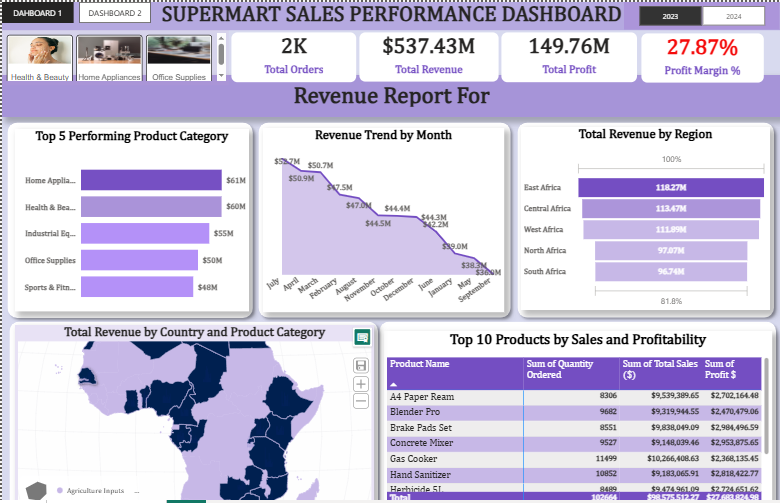

The dashboard page shown, as its layout file describes it:
{"tool":"powerbi","page":{"name":"DAHBOARD 1","canvas":[1299,861],"ordinal":0},"visuals":[{"type":"cardVisual","fields":{"Data":["Product Category Images.Report title"]},"box":[0,121.7,1299,70.5],"z":0},{"type":"shape","box":[849.8,192.2,445.6,343.2],"z":0,"group":"g4"},{"type":"shape","box":[3.5,523.1,632.3,337.4],"z":0,"group":"g6"},{"type":"shape","box":[620.4,524.1,679.1,336],"z":0,"group":"g5"},{"type":"group","id":"g1","title":"Group 2","box":[354,22.4,944.8,142.5],"z":1000},{"type":"cardVisual","fields":{"Data":["Metrics.Total Orders"]},"box":[354,23.2,266.7,141.7],"z":1000,"group":"g1"},{"type":"cardVisual","fields":{"Data":["Metrics.Total Sales"]},"box":[568.1,22.4,290.8,140.2],"z":2000,"group":"g1"},{"type":"group","id":"g2","title":"Group 1","box":[0,191.4,426.5,342.1],"z":2000},{"type":"textbox","title":"GLOBAL MART SALES PERFORMANCE DASHBOARD","box":[0,0,1299,46.7],"z":3000},{"type":"cardVisual","fields":{"Data":["Metrics.Profit Margin %"]},"box":[1036.6,24.7,262.2,140.2],"z":3000,"group":"g1"},{"type":"shape","box":[418.3,191.7,438.3,343.3],"z":3000,"group":"g3"},{"type":"cardVisual","fields":{"Data":["Metrics.Total Profit"]},"box":[804.5,23.2,284.8,141.7],"z":4000,"group":"g1"},{"type":"ChicletSlicer1448559807354","fields":{"Category":["Product Category Images.Product Categories"],"Image":["Product Category Images.Product Categories Images"]},"box":[0,46.7,378.2,91.9],"z":4000},{"type":"shape","box":[0,191.4,426.9,343.9],"z":4250,"group":"g2"},{"type":"barChart","title":"Top 5 Performing Product Category","fields":{"Category":["Fact Table.Product Category"],"Y":["Metrics.Total Sales"]},"box":[21.7,210.7,389.5,304.1],"z":4500,"group":"g2"},{"type":"group","id":"g3","title":"Group 3","box":[418.3,191.7,438.3,343.3],"z":5000},{"type":"group","id":"g4","title":"Group 4","box":[849.8,192.2,445.6,343.2],"z":6000},{"type":"lineChart","title":"Revenue Trend by Month","fields":{"Y":["Metrics.Total Revenue"],"Category":["Order Date T.Month Name"]},"box":[435.2,209.5,401.7,306.7],"z":6000,"group":"g3"},{"type":"group","id":"g5","title":"Group 4","box":[620.4,524.1,679.1,336],"z":7000},{"type":"funnel","fields":{"Category":["Fact Table.Region"],"Y":["Metrics.Total Revenue"]},"box":[864.2,208.4,415,305.4],"z":8000},{"type":"pivotTable","title":"Top 10 Products by Sales and Profitability","fields":{"Rows":["Fact Table.Product Name"],"Values":["Sum(Fact Table.Quantity Ordered)","Sum(Fact Table.Total Sales ($))","Sum(Fact Table.Profit $)"]},"box":[636,548,646.8,298.2],"z":9000},{"type":"group","id":"g6","title":"Group 4","box":[3.5,523.1,632.7,337.6],"z":10000},{"type":"map","fields":{"Category":["Fact Table.Country"],"Size":["Metrics.Total Revenue"],"Series":["Fact Table.Country"]},"box":[21.2,539,599.1,307.5],"z":11000},{"type":"slicer","title":"Y","fields":{"Values":["Order Date T.Year"]},"box":[1037.2,0,258.9,46],"z":12000},{"type":"pageNavigator","box":[0,0,248.9,36],"z":13000}]}

Visuals, with their boxes on the page's 1299x861 design canvas (x1, y1, x2, y2). These are canvas units, not pixel positions in the 780x503 screenshot, which may show the page scaled, cropped or inside an application window:
cardVisual - Product Category Images.Report title: BBox(0, 122, 1299, 192)
shape: BBox(850, 192, 1295, 535)
shape: BBox(4, 523, 636, 860)
shape: BBox(620, 524, 1300, 860)
"Group 2" group: BBox(354, 22, 1299, 165)
cardVisual - Metrics.Total Orders: BBox(354, 23, 621, 165)
cardVisual - Metrics.Total Sales: BBox(568, 22, 859, 163)
"Group 1" group: BBox(0, 191, 426, 534)
"GLOBAL MART SALES PERFORMANCE DASHBOARD" textbox: BBox(0, 0, 1299, 47)
cardVisual - Metrics.Profit Margin %: BBox(1037, 25, 1299, 165)
shape: BBox(418, 192, 857, 535)
cardVisual - Metrics.Total Profit: BBox(804, 23, 1089, 165)
ChicletSlicer1448559807354 - Product Category Images.Product Categories x Product Category Images.Product Categories Images: BBox(0, 47, 378, 139)
shape: BBox(0, 191, 427, 535)
"Top 5 Performing Product Category" barChart: BBox(22, 211, 411, 515)
"Group 3" group: BBox(418, 192, 857, 535)
"Group 4" group: BBox(850, 192, 1295, 535)
"Revenue Trend by Month" lineChart: BBox(435, 210, 837, 516)
"Group 4" group: BBox(620, 524, 1300, 860)
funnel - Fact Table.Region x Metrics.Total Revenue: BBox(864, 208, 1279, 514)
"Top 10 Products by Sales and Profitability" pivotTable: BBox(636, 548, 1283, 846)
"Group 4" group: BBox(4, 523, 636, 861)
map - Fact Table.Country x Metrics.Total Revenue: BBox(21, 539, 620, 846)
"Y" slicer: BBox(1037, 0, 1296, 46)
pageNavigator: BBox(0, 0, 249, 36)
